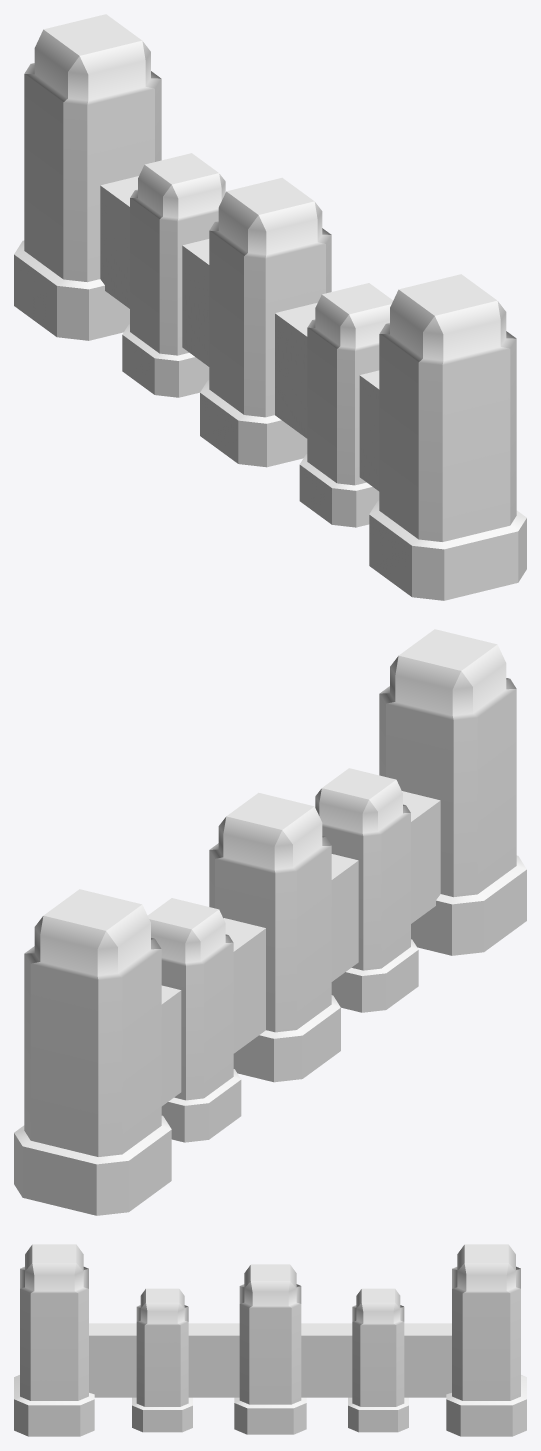
Rendered from Wall_Lv13_2.fbx.
The picture shows the model from 3 angles, top to bottom: view 1: azimuth 30°, elevation 25°; view 2: azimuth 150°, elevation 25°; view 3: azimuth 270°, elevation 25°; orthographic projection. The views are drawn at different scales.
Parts seen in each view (by area): view 1: Wall; view 2: Wall; view 3: Wall.
Boxes of the visible parts, bbox=[...] form: Wall: bbox=[14, 14, 526, 600]; Wall: bbox=[14, 629, 526, 1215]; Wall: bbox=[14, 1244, 526, 1436].
Size of the model in its own units: 0.249 by 0.5641 by 1.58.
